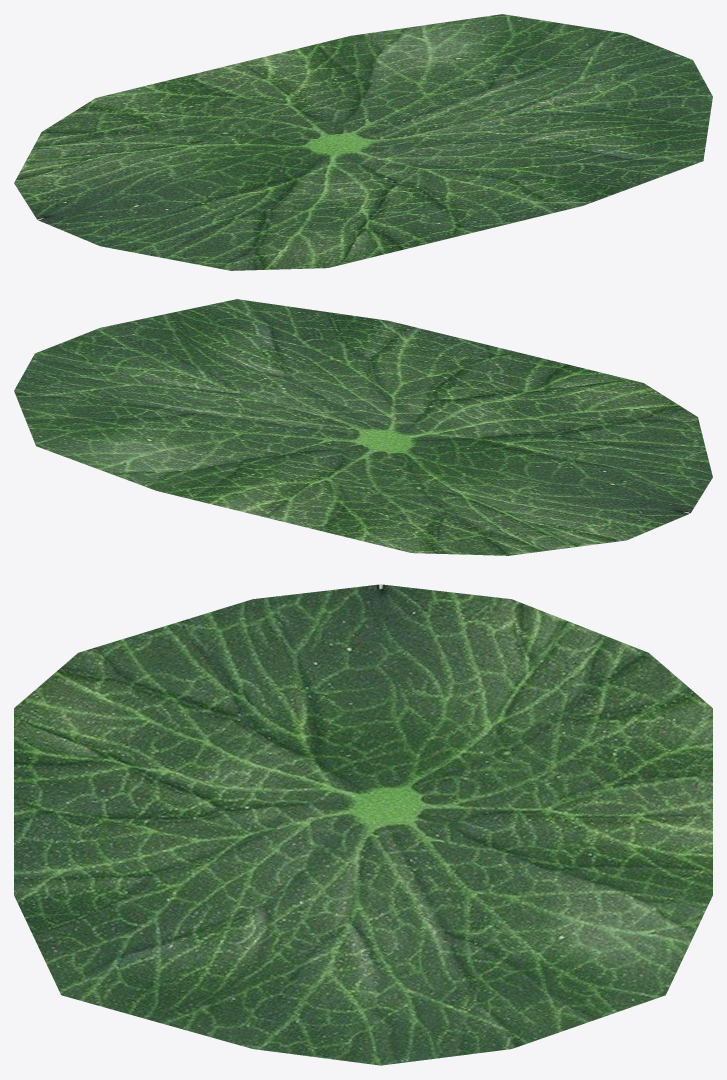
The model's file is lotus leaf.fbx.
3 views of the same model, one above another, from view 1: azimuth 30°, elevation 25°; view 2: azimuth 150°, elevation 25°; view 3: azimuth 270°, elevation 25° (orthographic). The views are drawn at different scales.
Visible parts, largest first — view 1: leaf; view 2: leaf; view 3: leaf.
Part boxes in pixels (left/top/right/bottom): leaf: left=14, top=14, right=712, bottom=270; leaf: left=14, top=299, right=712, bottom=555; leaf: left=14, top=584, right=712, bottom=1065.
Bounding box in the file's own units: 163 × 0 × 100.
Materials: 1 (1 with a texture image).
